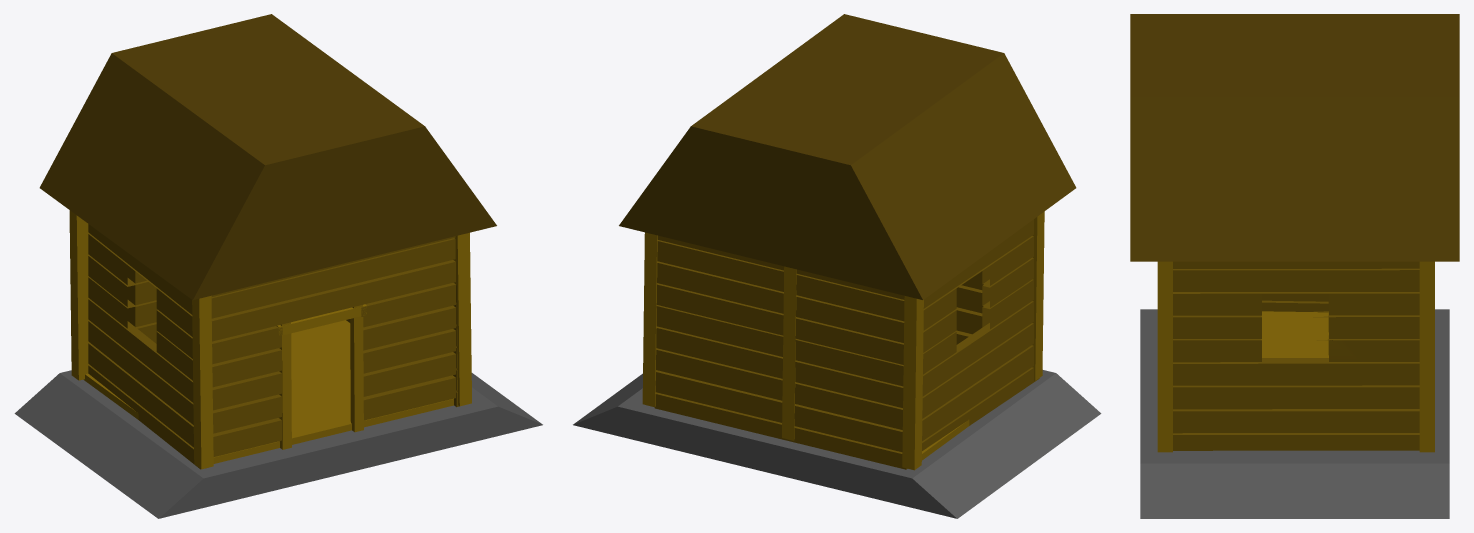
Rendered from House.fbx.
The picture shows the model from 3 angles, left to right: view 1: azimuth 30°, elevation 25°; view 2: azimuth 150°, elevation 25°; view 3: azimuth 270°, elevation 25°; orthographic projection. The views are drawn at different scales.
Parts seen in each view (by area): view 1: pCube2, group37_pasted__group36_pasted__pasted__group35_pasted__past, pCube1; view 2: pCube2, group37_pasted__group36_pasted__pasted__group35_pasted__past, pCube1, pCube3; view 3: pCube2, group37_pasted__group36_pasted__pasted__group35_pasted__past, pCube1.
Boxes of the visible parts, x1,y1,x2,y2 form: pCube2: (39, 14, 496, 299); group37_pasted__group36_pasted__pasted__group35_pasted__past: (69, 210, 471, 469); pCube1: (14, 370, 542, 518); pCube2: (619, 14, 1076, 299); group37_pasted__group36_pasted__pasted__group35_pasted__past: (642, 211, 1044, 470); pCube1: (573, 370, 1101, 518); pCube3: (657, 235, 904, 299); pCube2: (1130, 14, 1459, 261); group37_pasted__group36_pasted__pasted__group35_pasted__past: (1157, 261, 1434, 452); pCube1: (1140, 309, 1449, 518).
Size of the model in its own units: 11.11 by 9.16 by 7.67.
